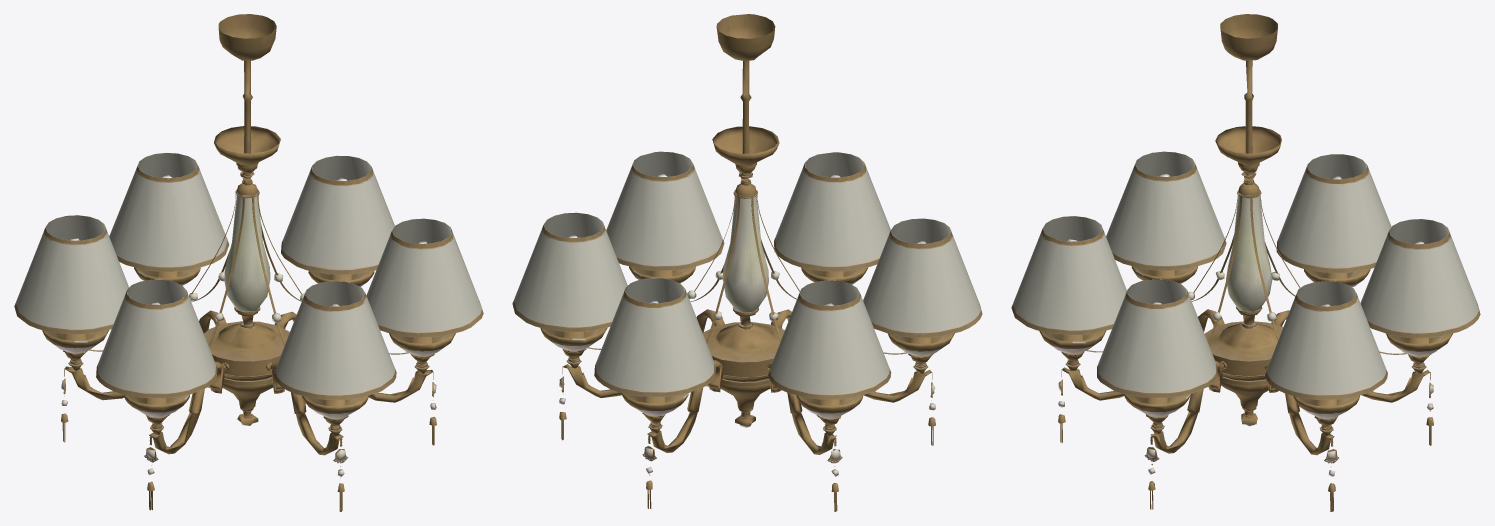
Rendered from chandelier.glb.
3 views of the same model, side by side, from view 1: azimuth 30°, elevation 25°; view 2: azimuth 150°, elevation 25°; view 3: azimuth 270°, elevation 25° (orthographic).
Visible parts, largest first — view 1: Chandelier_01; view 2: Chandelier_01; view 3: Chandelier_01.
Boxes of the visible parts, bbox=[...] form: Chandelier_01: bbox=[14, 14, 483, 511]; Chandelier_01: bbox=[512, 14, 982, 511]; Chandelier_01: bbox=[1011, 14, 1480, 511].
Bounding box in the file's own units: 0.7453 × 0.7982 × 0.8155.
Materials: 2 (1 with a texture image).
